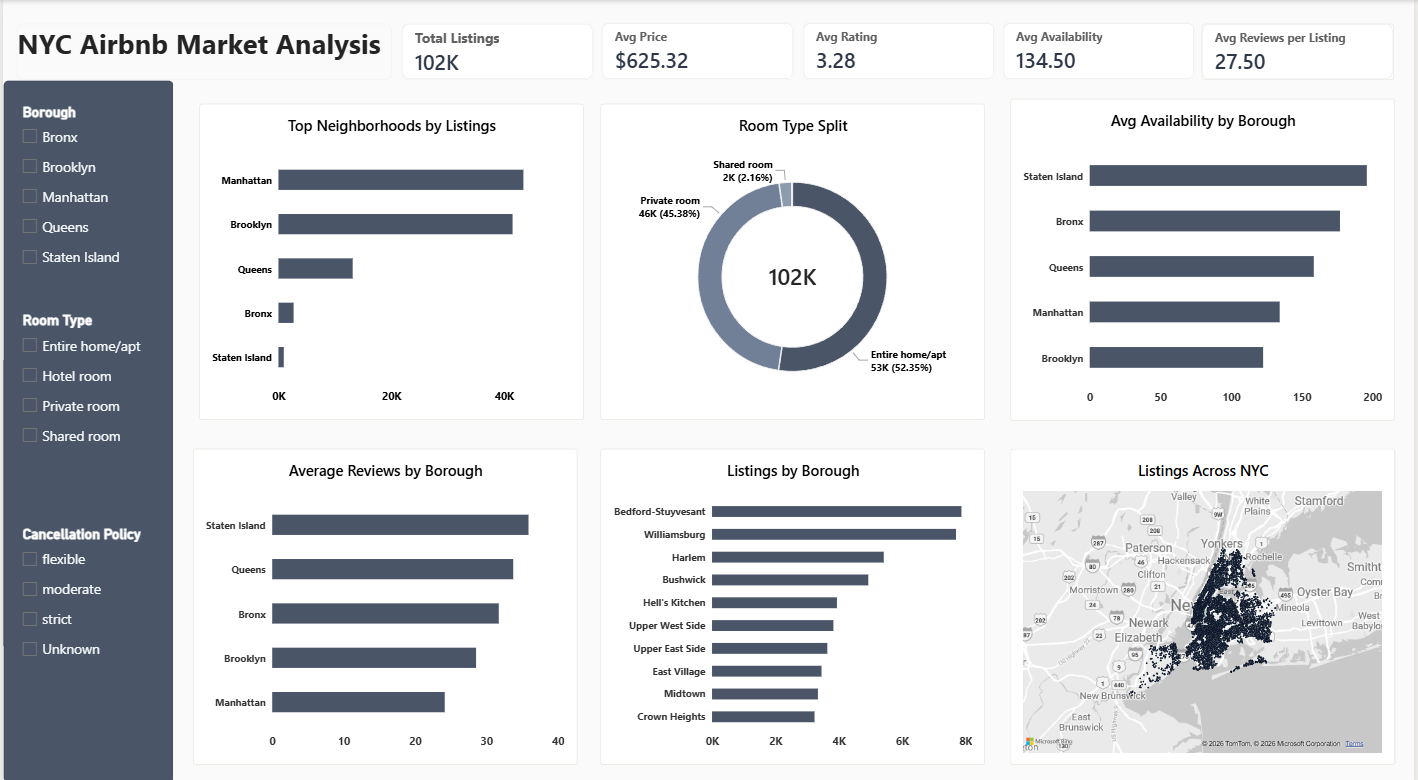

Layout of this report page (visuals, bound fields, positions):
{"tool":"powerbi","page":{"name":"Page 1","canvas":[1920,1080],"ordinal":0},"visuals":[{"type":"shape","box":[0,109.1,232.6,957.1],"z":0},{"type":"cardVisual","title":"Tot","fields":{"Data":["airbnb_clean.Total_Listings"]},"box":[543.4,32.9,261.4,76.2],"z":1000},{"type":"cardVisual","fields":{"Data":["airbnb_clean.Avg Price"]},"box":[815.1,30.9,261.4,78.2],"z":2000},{"type":"slicer","fields":{"Values":["airbnb_clean.neighbourhood_group"]},"box":[18.5,142,214.1,259.3],"z":3000},{"type":"slicer","fields":{"Values":["airbnb_clean.room_type"]},"box":[18.5,426.1,214.1,228.5],"z":4000},{"type":"slicer","fields":{"Values":["airbnb_clean.cancellation_policy"]},"box":[18.5,716.3,214.1,242.9],"z":5000},{"type":"clusteredBarChart","title":"Top Neighborhoods by Listings","fields":{"Category":["airbnb_clean.neighbourhood_group"],"Y":["airbnb_clean.Total_Listings"]},"box":[267.6,142,522.8,430.2],"z":6000},{"type":"cardVisual","fields":{"Data":["airbnb_clean.Avg Rating"]},"box":[1088.9,30.9,261.4,78.2],"z":7000},{"type":"cardVisual","fields":{"Data":["airbnb_clean.Avg Availability"]},"box":[1360.6,30.9,261.4,78.2],"z":8000},{"type":"cardVisual","fields":{"Data":["airbnb_clean.Avg Reviews per Listing"]},"box":[1632.3,32.9,261.4,76.2],"z":9000},{"type":"donutChart","title":"Room Type Split","fields":{"Category":["airbnb_clean.room_type"],"Y":["airbnb_clean.Total_Listings"]},"box":[813,142,522.8,430.2],"z":10000},{"type":"clusteredBarChart","title":"Avg Availability by Borough","fields":{"Category":["airbnb_clean.neighbourhood_group"],"Y":["airbnb_clean.Avg Availability"]},"box":[1370.8,133.8,522.8,438.4],"z":11000},{"type":"clusteredBarChart","title":"Average Reviews by Borough","fields":{"Category":["airbnb_clean.neighbourhood_group"],"Y":["airbnb_clean.Avg Reviews per Listing"]},"box":[259.3,611.3,522.8,430.2],"z":12000},{"type":"clusteredBarChart","title":"Listings by Borough","fields":{"Category":["airbnb_clean.neighbourhood"],"Y":["airbnb_clean.Total_Listings"]},"box":[813,611.3,522.8,430.2],"z":13000},{"type":"map","title":"Listings Across NYC","fields":{"X":["airbnb_clean.long"],"Y":["airbnb_clean.lat"]},"box":[1370.8,611.3,522.8,430.2],"z":14000},{"type":"textbox","box":[18.5,32.9,510.5,76.2],"z":15000}]}

Visuals, with their boxes in screenshot pixels (x1, y1, x2, y2), scaled from the page's 1920x1080 canvas onto the 1418x780 screenshot:
shape: <bbox>0, 79, 172, 770</bbox>
"Tot" cardVisual: <bbox>401, 24, 594, 79</bbox>
cardVisual - airbnb_clean.Avg Price: <bbox>602, 22, 795, 79</bbox>
slicer - airbnb_clean.neighbourhood_group: <bbox>14, 103, 172, 290</bbox>
slicer - airbnb_clean.room_type: <bbox>14, 308, 172, 473</bbox>
slicer - airbnb_clean.cancellation_policy: <bbox>14, 517, 172, 693</bbox>
"Top Neighborhoods by Listings" clusteredBarChart: <bbox>198, 103, 584, 413</bbox>
cardVisual - airbnb_clean.Avg Rating: <bbox>804, 22, 997, 79</bbox>
cardVisual - airbnb_clean.Avg Availability: <bbox>1005, 22, 1198, 79</bbox>
cardVisual - airbnb_clean.Avg Reviews per Listing: <bbox>1206, 24, 1399, 79</bbox>
"Room Type Split" donutChart: <bbox>600, 103, 987, 413</bbox>
"Avg Availability by Borough" clusteredBarChart: <bbox>1012, 97, 1399, 413</bbox>
"Average Reviews by Borough" clusteredBarChart: <bbox>192, 441, 578, 752</bbox>
"Listings by Borough" clusteredBarChart: <bbox>600, 441, 987, 752</bbox>
"Listings Across NYC" map: <bbox>1012, 441, 1399, 752</bbox>
textbox: <bbox>14, 24, 391, 79</bbox>
